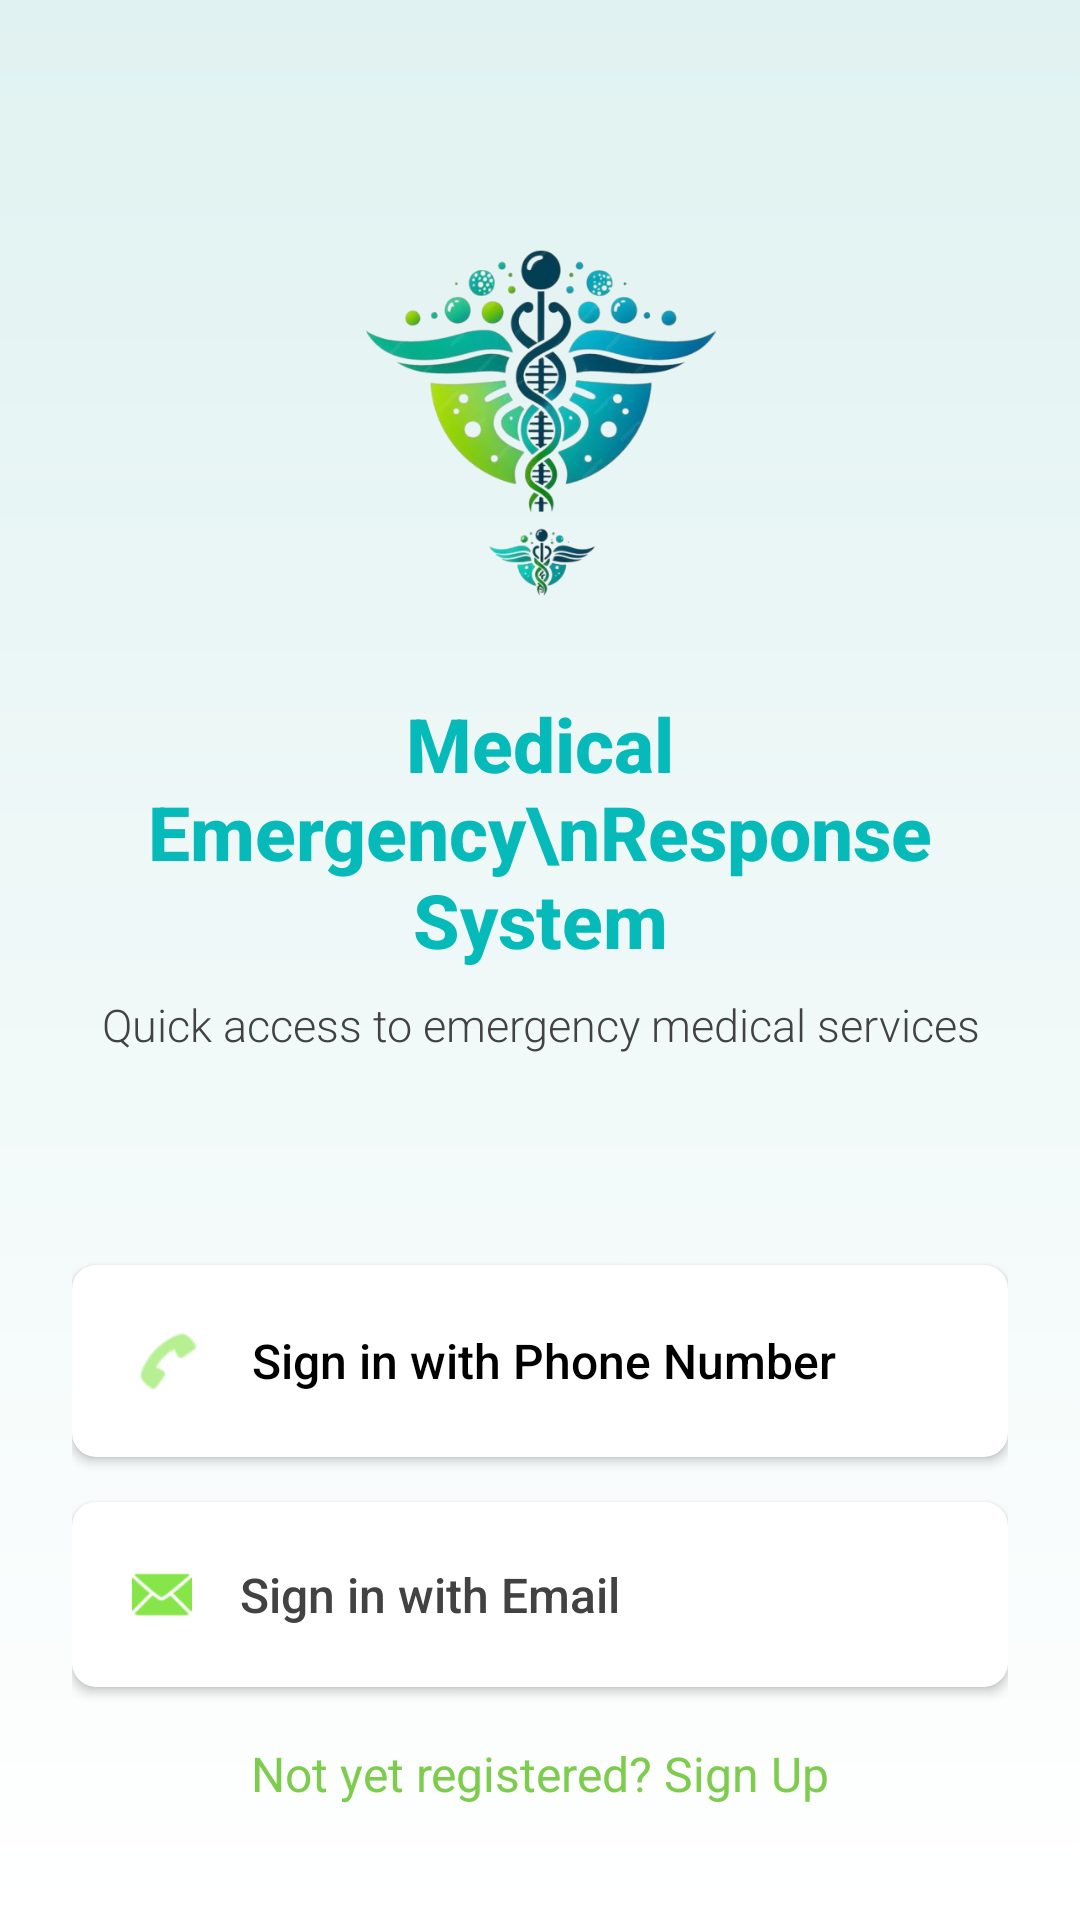

Named icons in this screenshot (1080 x 1920) and their centers, (x=x, y=y):
call: (x=168, y=1361)
